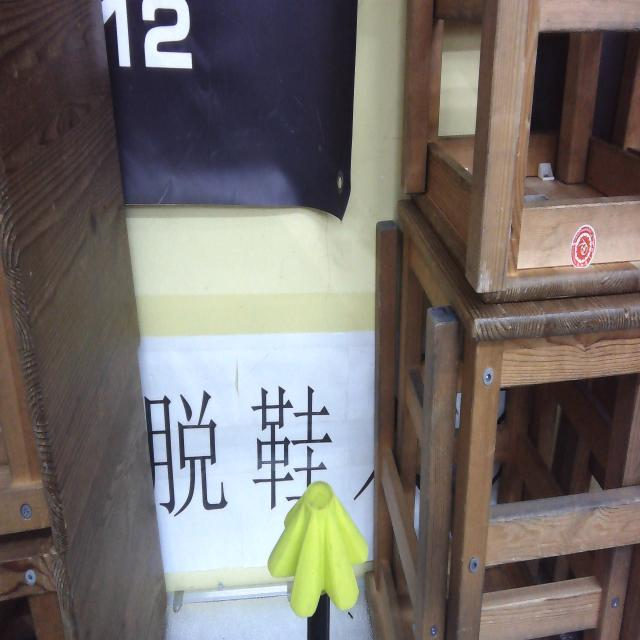Yellow-Stake-Head: (266, 479, 371, 618)
